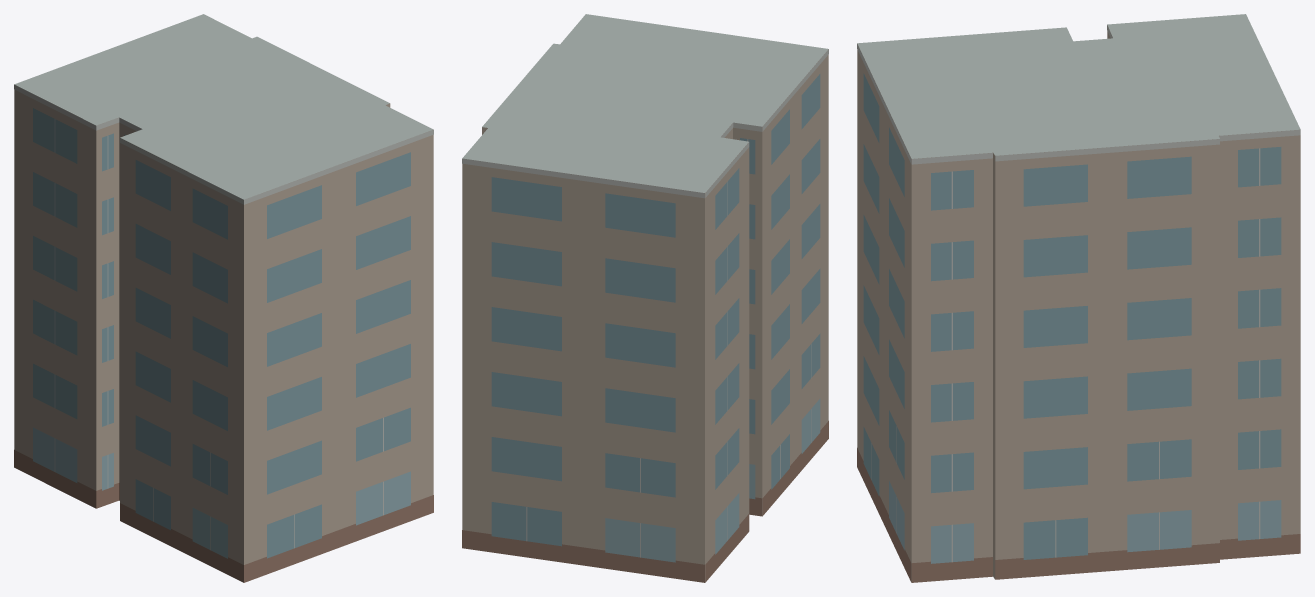
File: survey-upis-32698821.glb
3 views of the same model, side by side, from view 1: azimuth 30°, elevation 25°; view 2: azimuth 150°, elevation 25°; view 3: azimuth 270°, elevation 25° (orthographic). The views are drawn at different scales.
Parts seen in each view (by area): view 1: survey-upis-32698821.tmp; view 2: survey-upis-32698821.tmp; view 3: survey-upis-32698821.tmp.
Part boxes in pixels (x1=…): survey-upis-32698821.tmp: x1=14, y1=14, x2=433, y2=582; survey-upis-32698821.tmp: x1=462, y1=14, x2=828, y2=582; survey-upis-32698821.tmp: x1=857, y1=14, x2=1300, y2=582.
Size of the model in its own units: 13.43 by 18.3 by 17.36.
